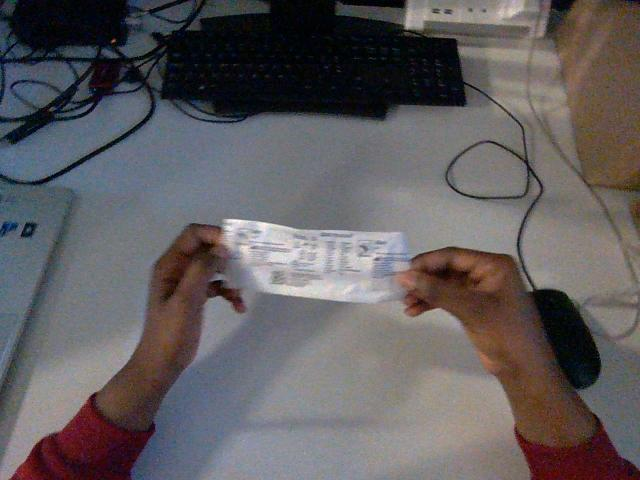syringe: (223, 219, 409, 302)
